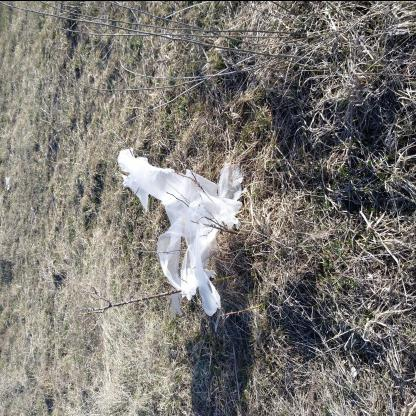plastik: (118, 148, 244, 317)
